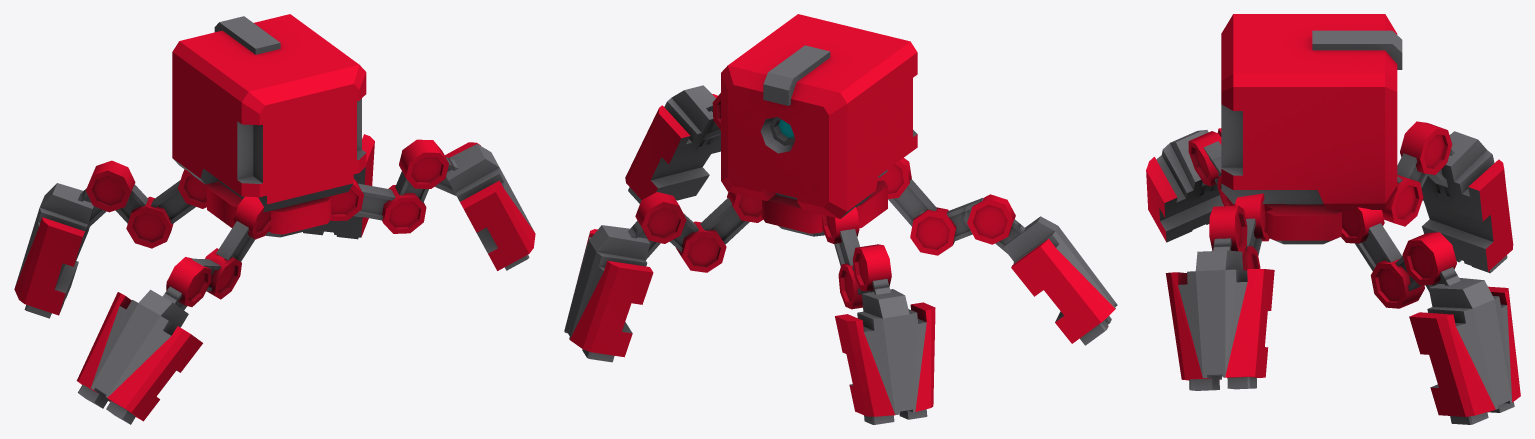
Rendered from Monster1_Move24.obj.
The picture shows the model from 3 angles, left to right: view 1: azimuth 30°, elevation 25°; view 2: azimuth 150°, elevation 25°; view 3: azimuth 270°, elevation 25°; orthographic projection. The views are drawn at different scales.
Visible parts, largest first — view 1: Box006, Object021, Object025, Object017, Object020, Object028, Object027, Object022, Object019, Object018, Object024, Object026 (+2 smaller); view 2: Box006, Object025, Object013, Object021, Object017, Object023, Object016, Object024, Object015, Object022, Object014, Object028 (+2 smaller); view 3: Box006, Object017, Object013, Object025, Object021, Object016, Object014, Object028, Object027, Object015, Object020, Object018 (+3 smaller).
Part boxes in pixels (box(x1,y1,x2,y2)): Box006: box(172, 14, 366, 237); Object021: box(76, 289, 202, 424); Object025: box(14, 183, 94, 318); Object017: box(445, 142, 535, 270); Object020: box(399, 139, 458, 195); Object028: box(78, 160, 135, 228); Object027: box(115, 184, 173, 248); Object022: box(216, 196, 277, 261); Object019: box(382, 171, 428, 233); Object018: box(324, 178, 395, 220); Object024: box(162, 257, 211, 310); Object026: box(151, 169, 219, 224); Box006: box(721, 14, 917, 236); Object025: box(835, 289, 935, 424); Object013: box(564, 225, 653, 362); Object021: box(1003, 216, 1117, 345); Object017: box(625, 85, 720, 203); Object023: box(910, 198, 983, 255); Object016: box(628, 192, 686, 259); Object024: box(967, 194, 1025, 253); Object015: box(669, 214, 726, 272); Object022: box(877, 158, 936, 226); Object014: box(700, 192, 763, 244); Object028: box(852, 244, 891, 294); Box006: box(1221, 14, 1402, 244); Object017: box(1165, 250, 1274, 390); Object013: box(1409, 277, 1520, 424); Object025: box(1421, 131, 1513, 273); Object021: box(1146, 128, 1223, 242); Object016: box(1402, 232, 1460, 291); Object014: box(1338, 207, 1402, 270); Object028: box(1400, 121, 1454, 187); Object027: box(1382, 153, 1428, 226); Object015: box(1370, 255, 1424, 308); Object020: box(1209, 205, 1247, 255); Object018: box(1235, 193, 1269, 255).
Bounding box in the file's own units: 195 × 114 × 126.
